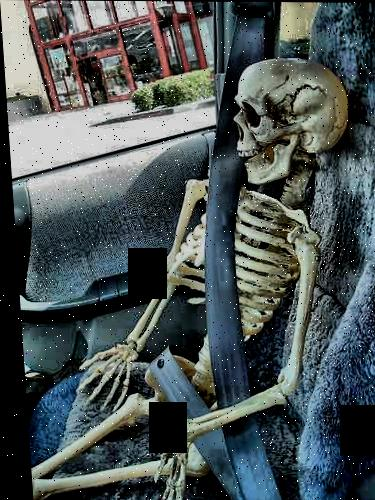seatbelt: (115, 13, 301, 431)
